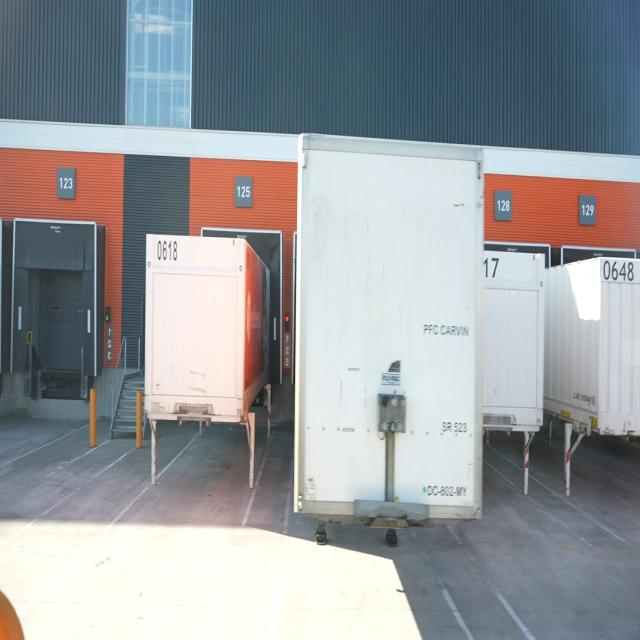Code: (600, 253, 638, 288), (155, 236, 180, 266)
